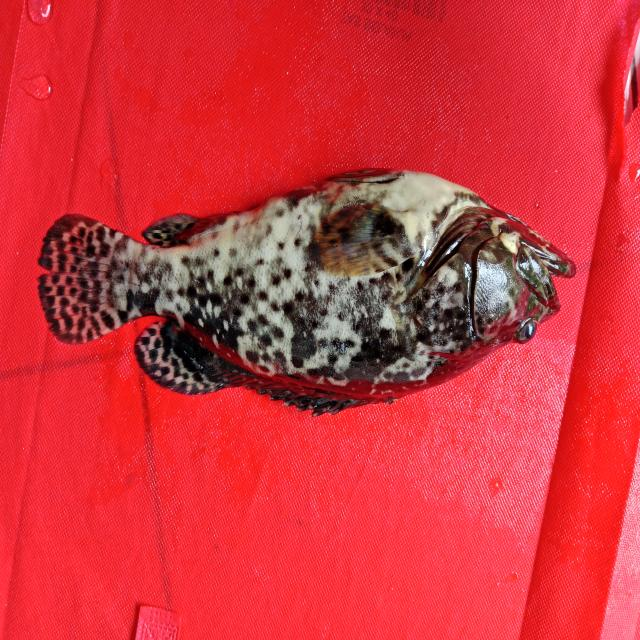ikan: (17, 153, 595, 432)
